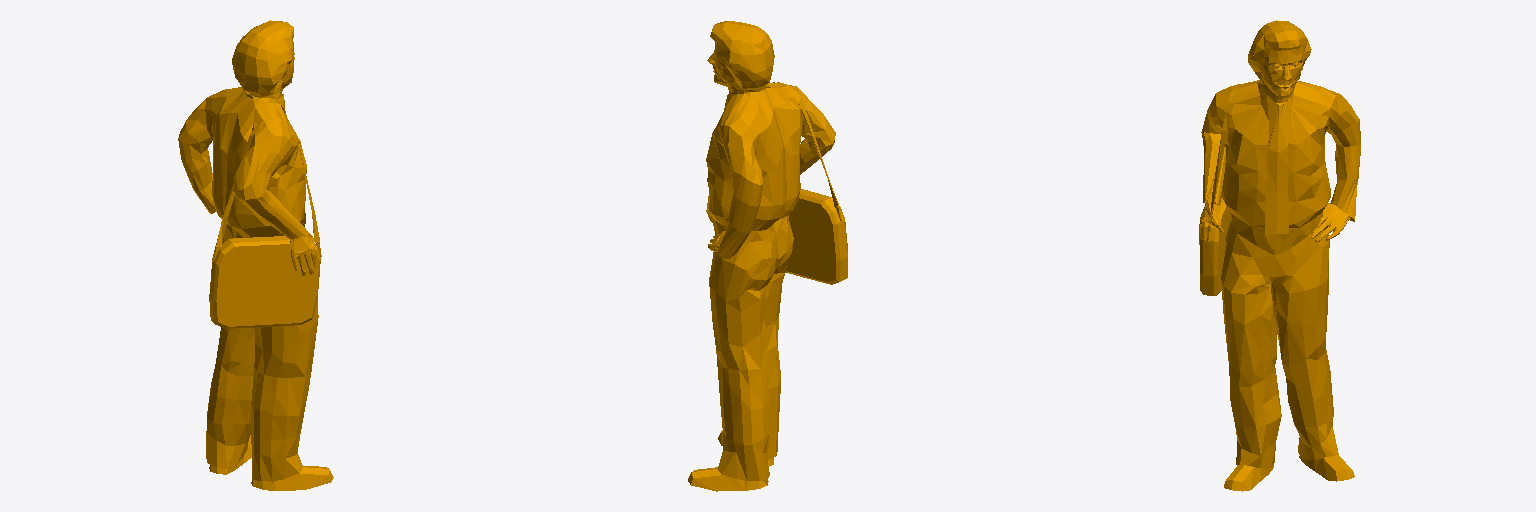
The robot description file, URDF, robot "man_laptopbag":
<?xml version="1.0" ?>
<robot name="man_laptopbag">
  <!-- A man in a white shirt carrying a laptop bag. -->

  <link name="man_laptopbag_footprint">
    <inertial>
      <mass value="75" />
      <origin xyz="0 0 0.9" />
      <inertia ixx="1" ixy="0" ixz="0" iyy="1" iyz="0" izz="1" />
    </inertial>
    <collision>
      <origin xyz="0 0 0.9" rpy="0 0 -1.57" />
      <geometry>
        <cylinder radius="0.25" length="1.8" />
      </geometry>
    </collision>
    <visual>
      <origin xyz="0 0.1 0" rpy="0 0 1.3" />
      <geometry>
        <mesh filename="package://tiago_bartender_world/meshes/man_standing_laptopbag.dae" scale="0.0254 0.0254 0.0254" />
      </geometry>
    </visual>
  </link>

</robot>

--- What the picture shows (computed from the rendered views, not written in the file) ---
3 views of the same robot in one strip: view 1: azimuth 30°, elevation 25°; view 2: azimuth 150°, elevation 25°; view 3: azimuth 270°, elevation 25° (orthographic).
Robot: man_laptopbag — 1 links, 0 joints (none); root link man_laptopbag_footprint; default pose: every joint at zero.
Visible links, largest first — view 1: man_laptopbag_footprint; view 2: man_laptopbag_footprint; view 3: man_laptopbag_footprint.
Boxes of the visible links, left/top/right/bottom form: man_laptopbag_footprint: left=178, top=20, right=333, bottom=490; man_laptopbag_footprint: left=688, top=21, right=847, bottom=491; man_laptopbag_footprint: left=1199, top=20, right=1360, bottom=491.
Size in the robot's own frame: 0.5446 by 0.6132 by 1.88 metres.
1 mesh visuals loaded from 1 distinct referenced files (1 Collada DAE).
